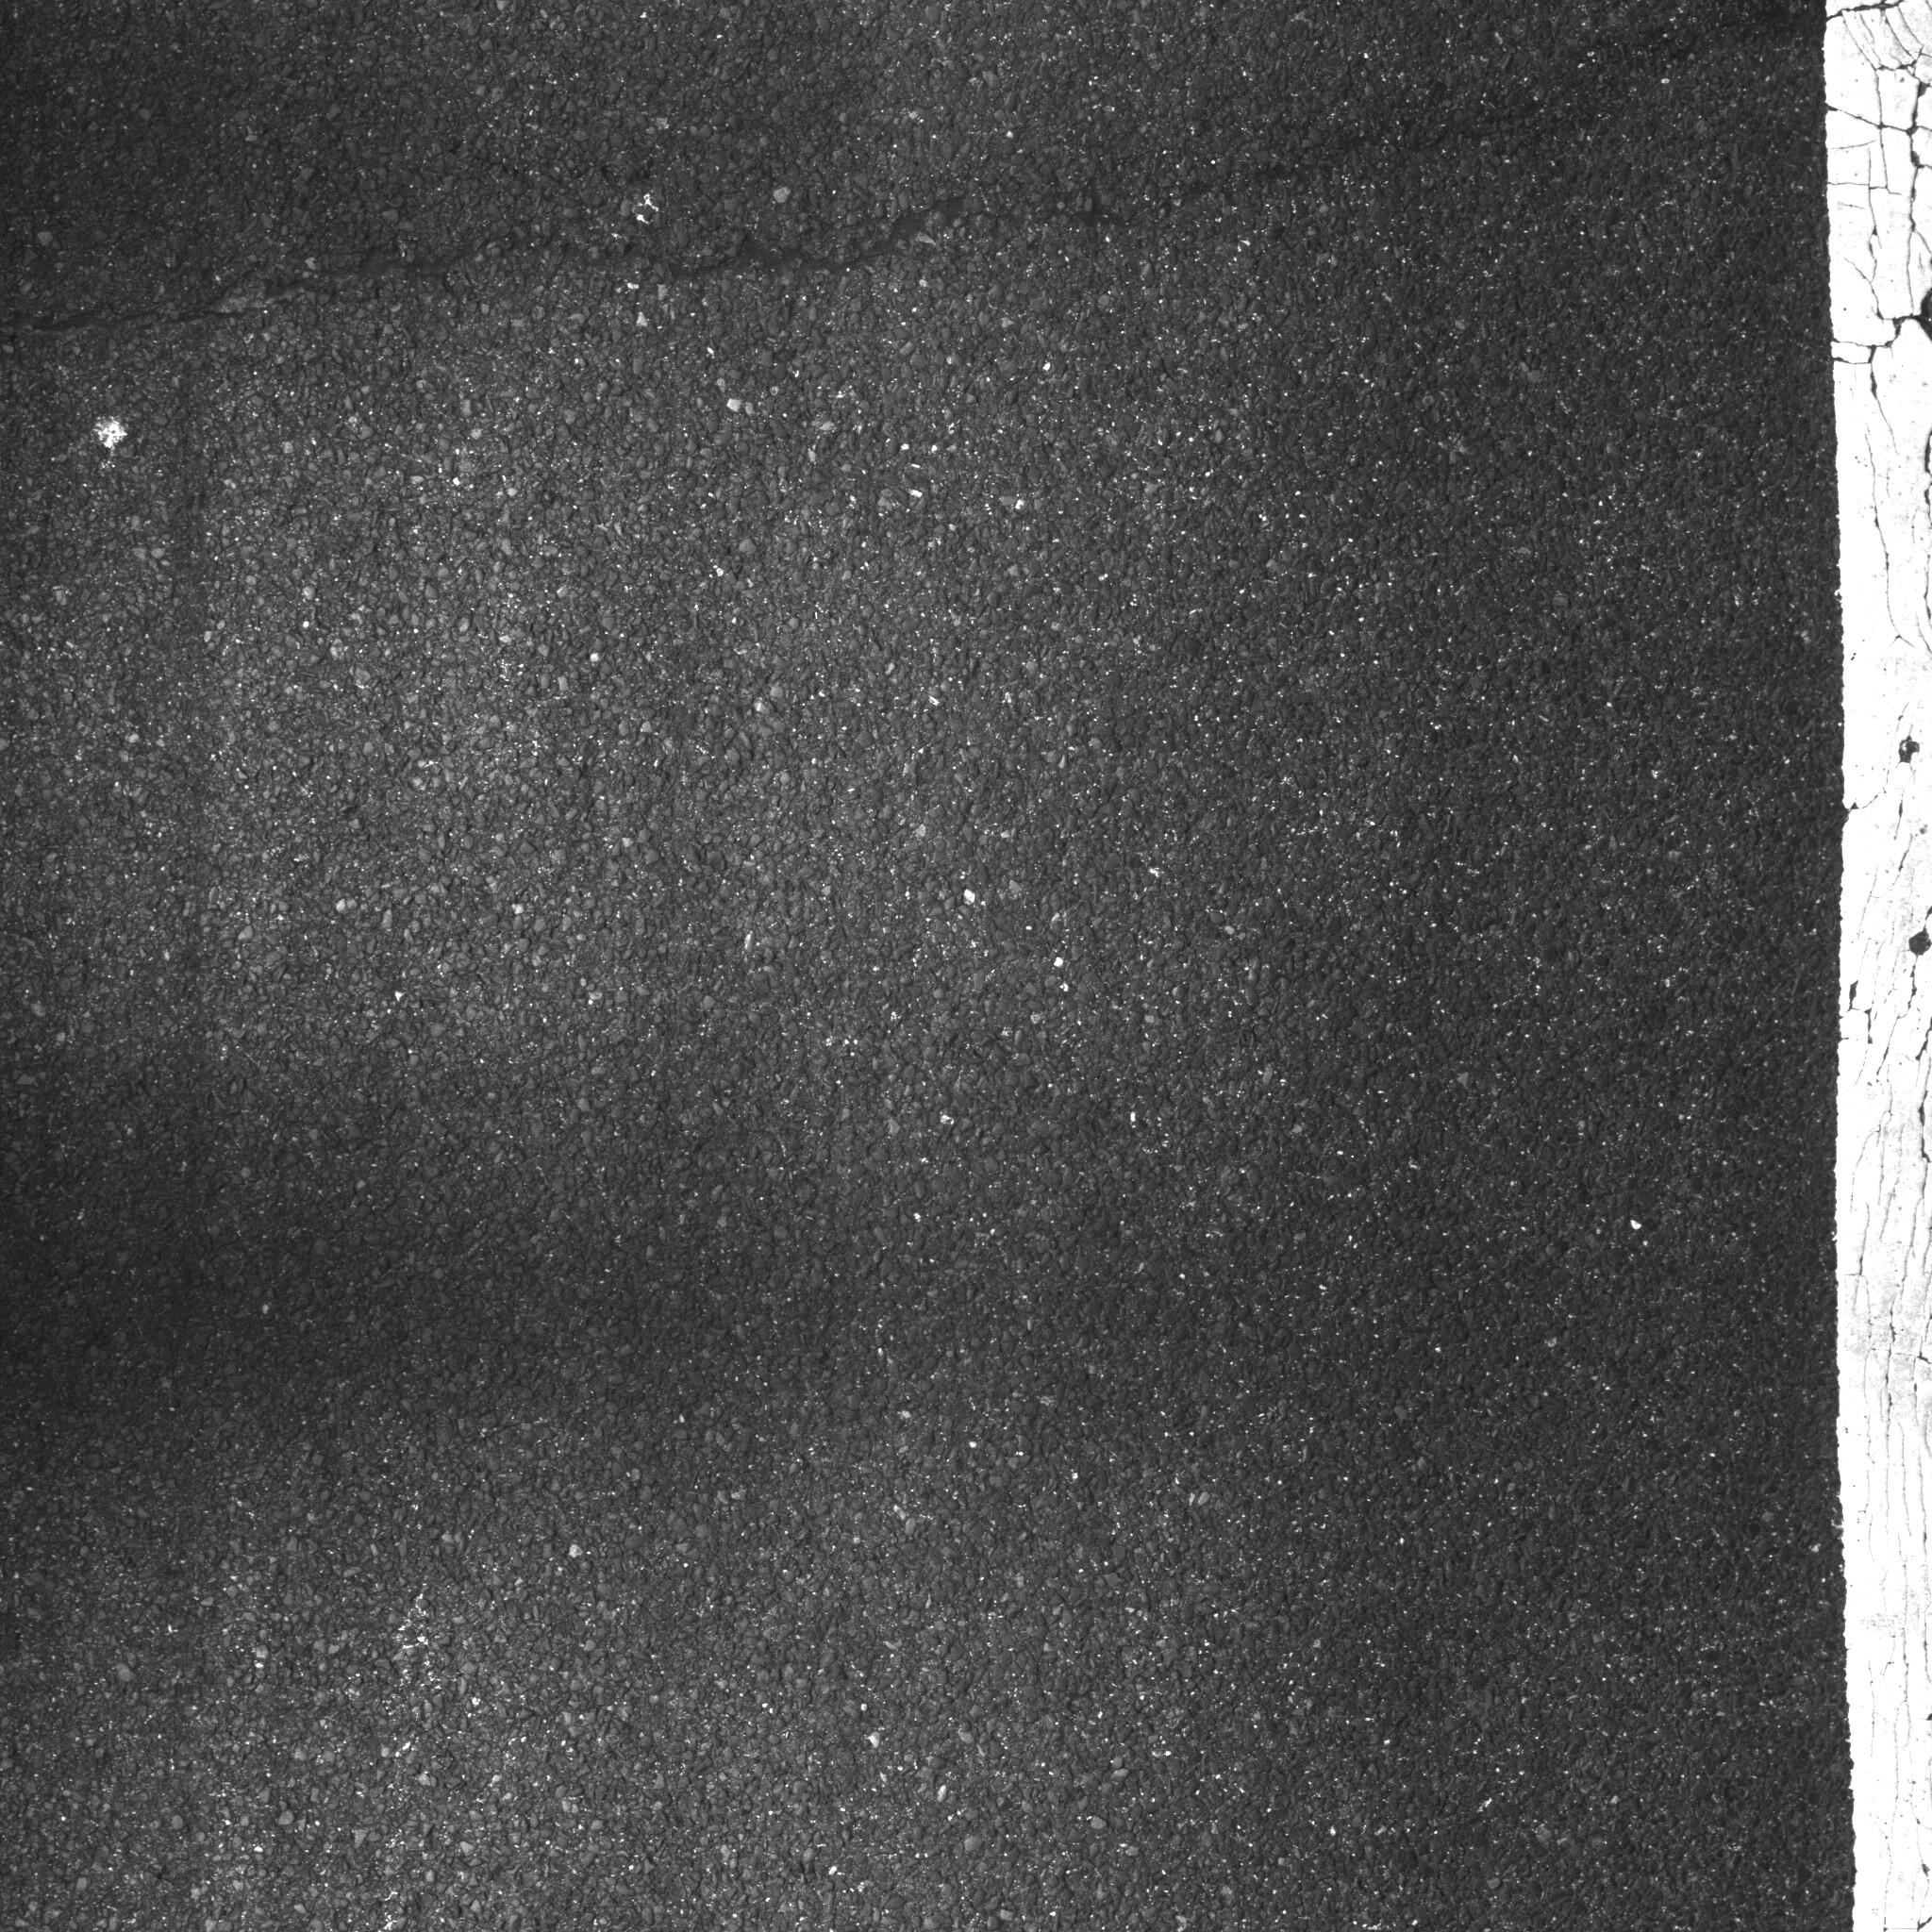transverse: (12, 21, 1822, 357)
